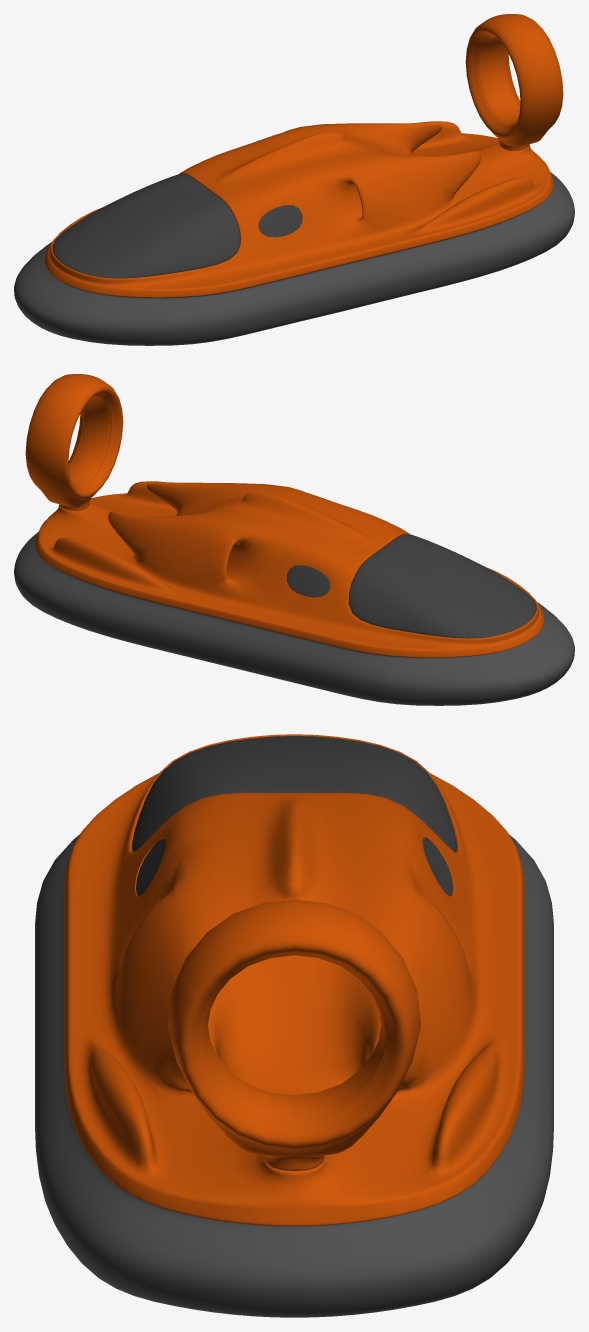
Rendered from HoverCraft.DAE.
3 views of the same model, one above another, from view 1: azimuth 30°, elevation 25°; view 2: azimuth 150°, elevation 25°; view 3: azimuth 270°, elevation 25° (orthographic). The views are drawn at different scales.
Parts seen in each view (by area): view 1: Craft, Ring; view 2: Craft, Ring; view 3: Craft, Ring.
Part boxes in pixels (x1,y1,x2,y2): Craft: [14, 121, 574, 345]; Ring: [465, 14, 563, 150]; Craft: [14, 481, 574, 705]; Ring: [25, 374, 123, 510]; Craft: [35, 734, 553, 1317]; Ring: [168, 899, 420, 1171].
Size of the model in its own units: 209 by 88.71 by 73.13.
